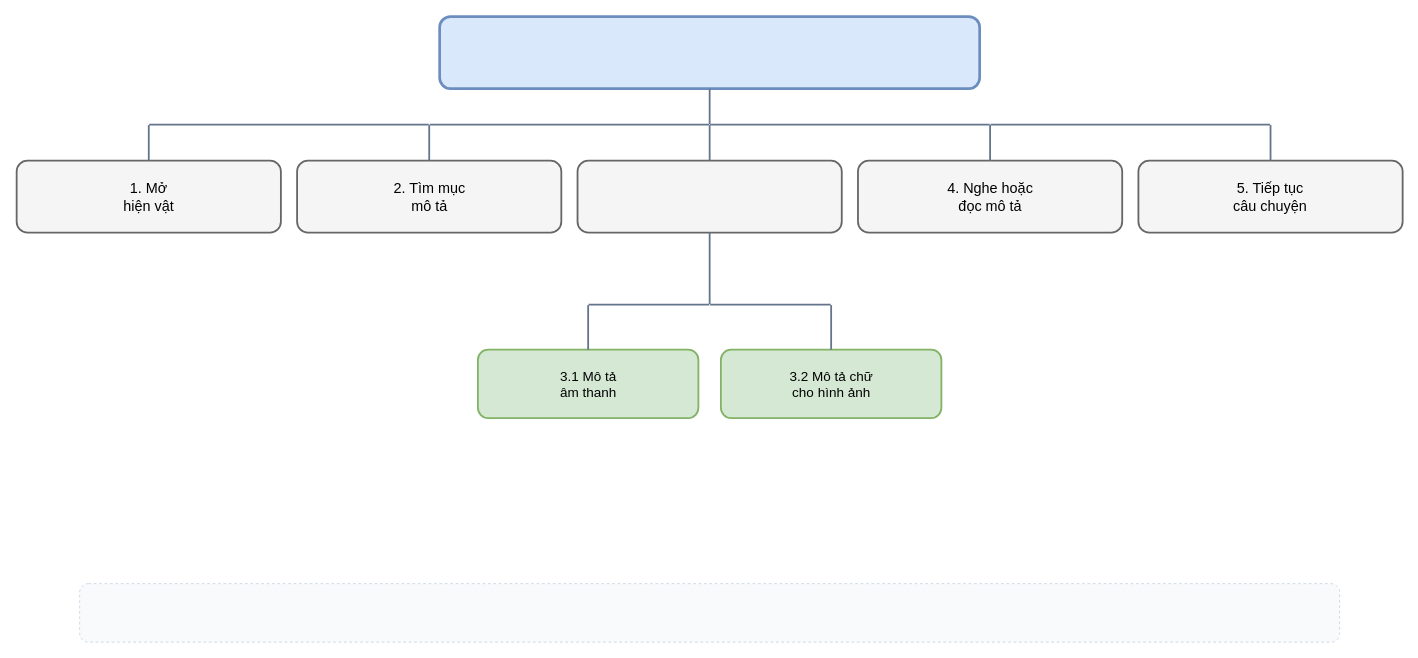
Image size: 1418x658. Some labels were removed from this diagram. Each missing label, with the centre of its shape:
"0. Truy cập mô tả của hiện vật và hình ảnh" goes at [709,52].
"3. Chọn dạng mô tả" goes at [709,196].
"Plan 0: 1 → 2 → 3 (chọn 3.1 hoặc 3.2) → 4 → 5; có thể dùng cả hai dạng." goes at [709,612].
